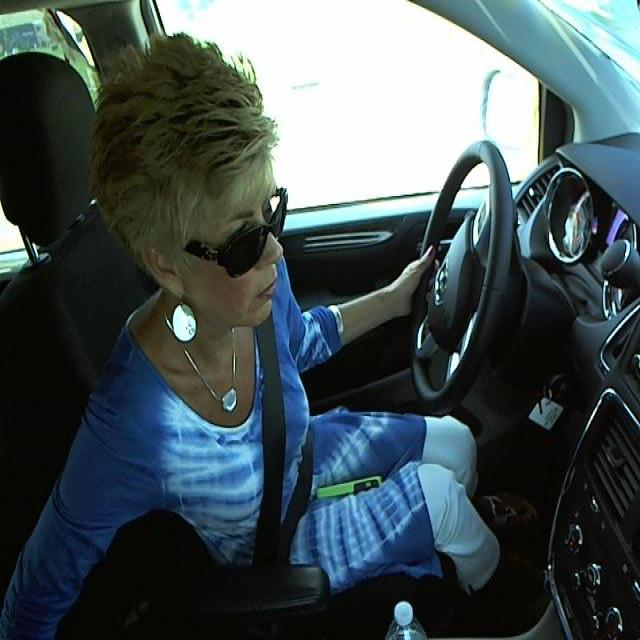seatbelt: (246, 317, 327, 567)
